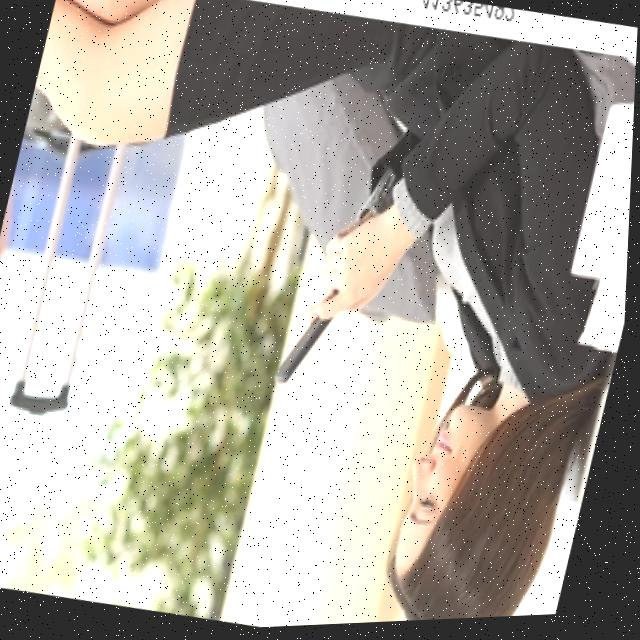smartphone-person: (191, 9, 639, 633)
